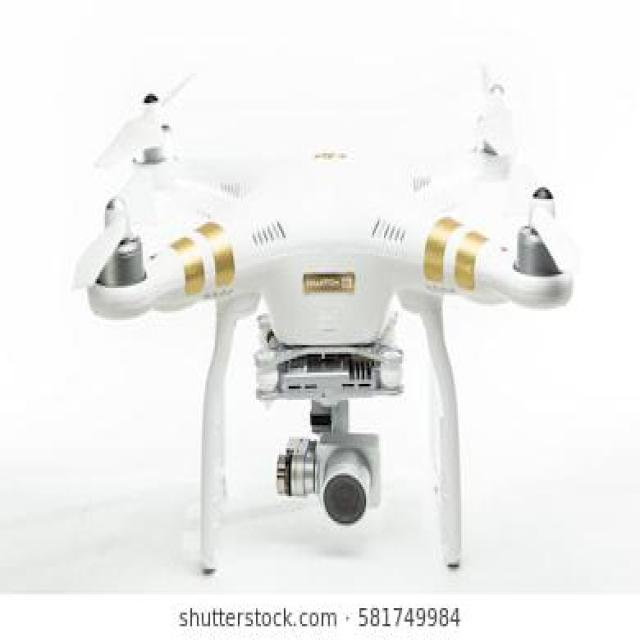drone: (56, 47, 588, 591)
